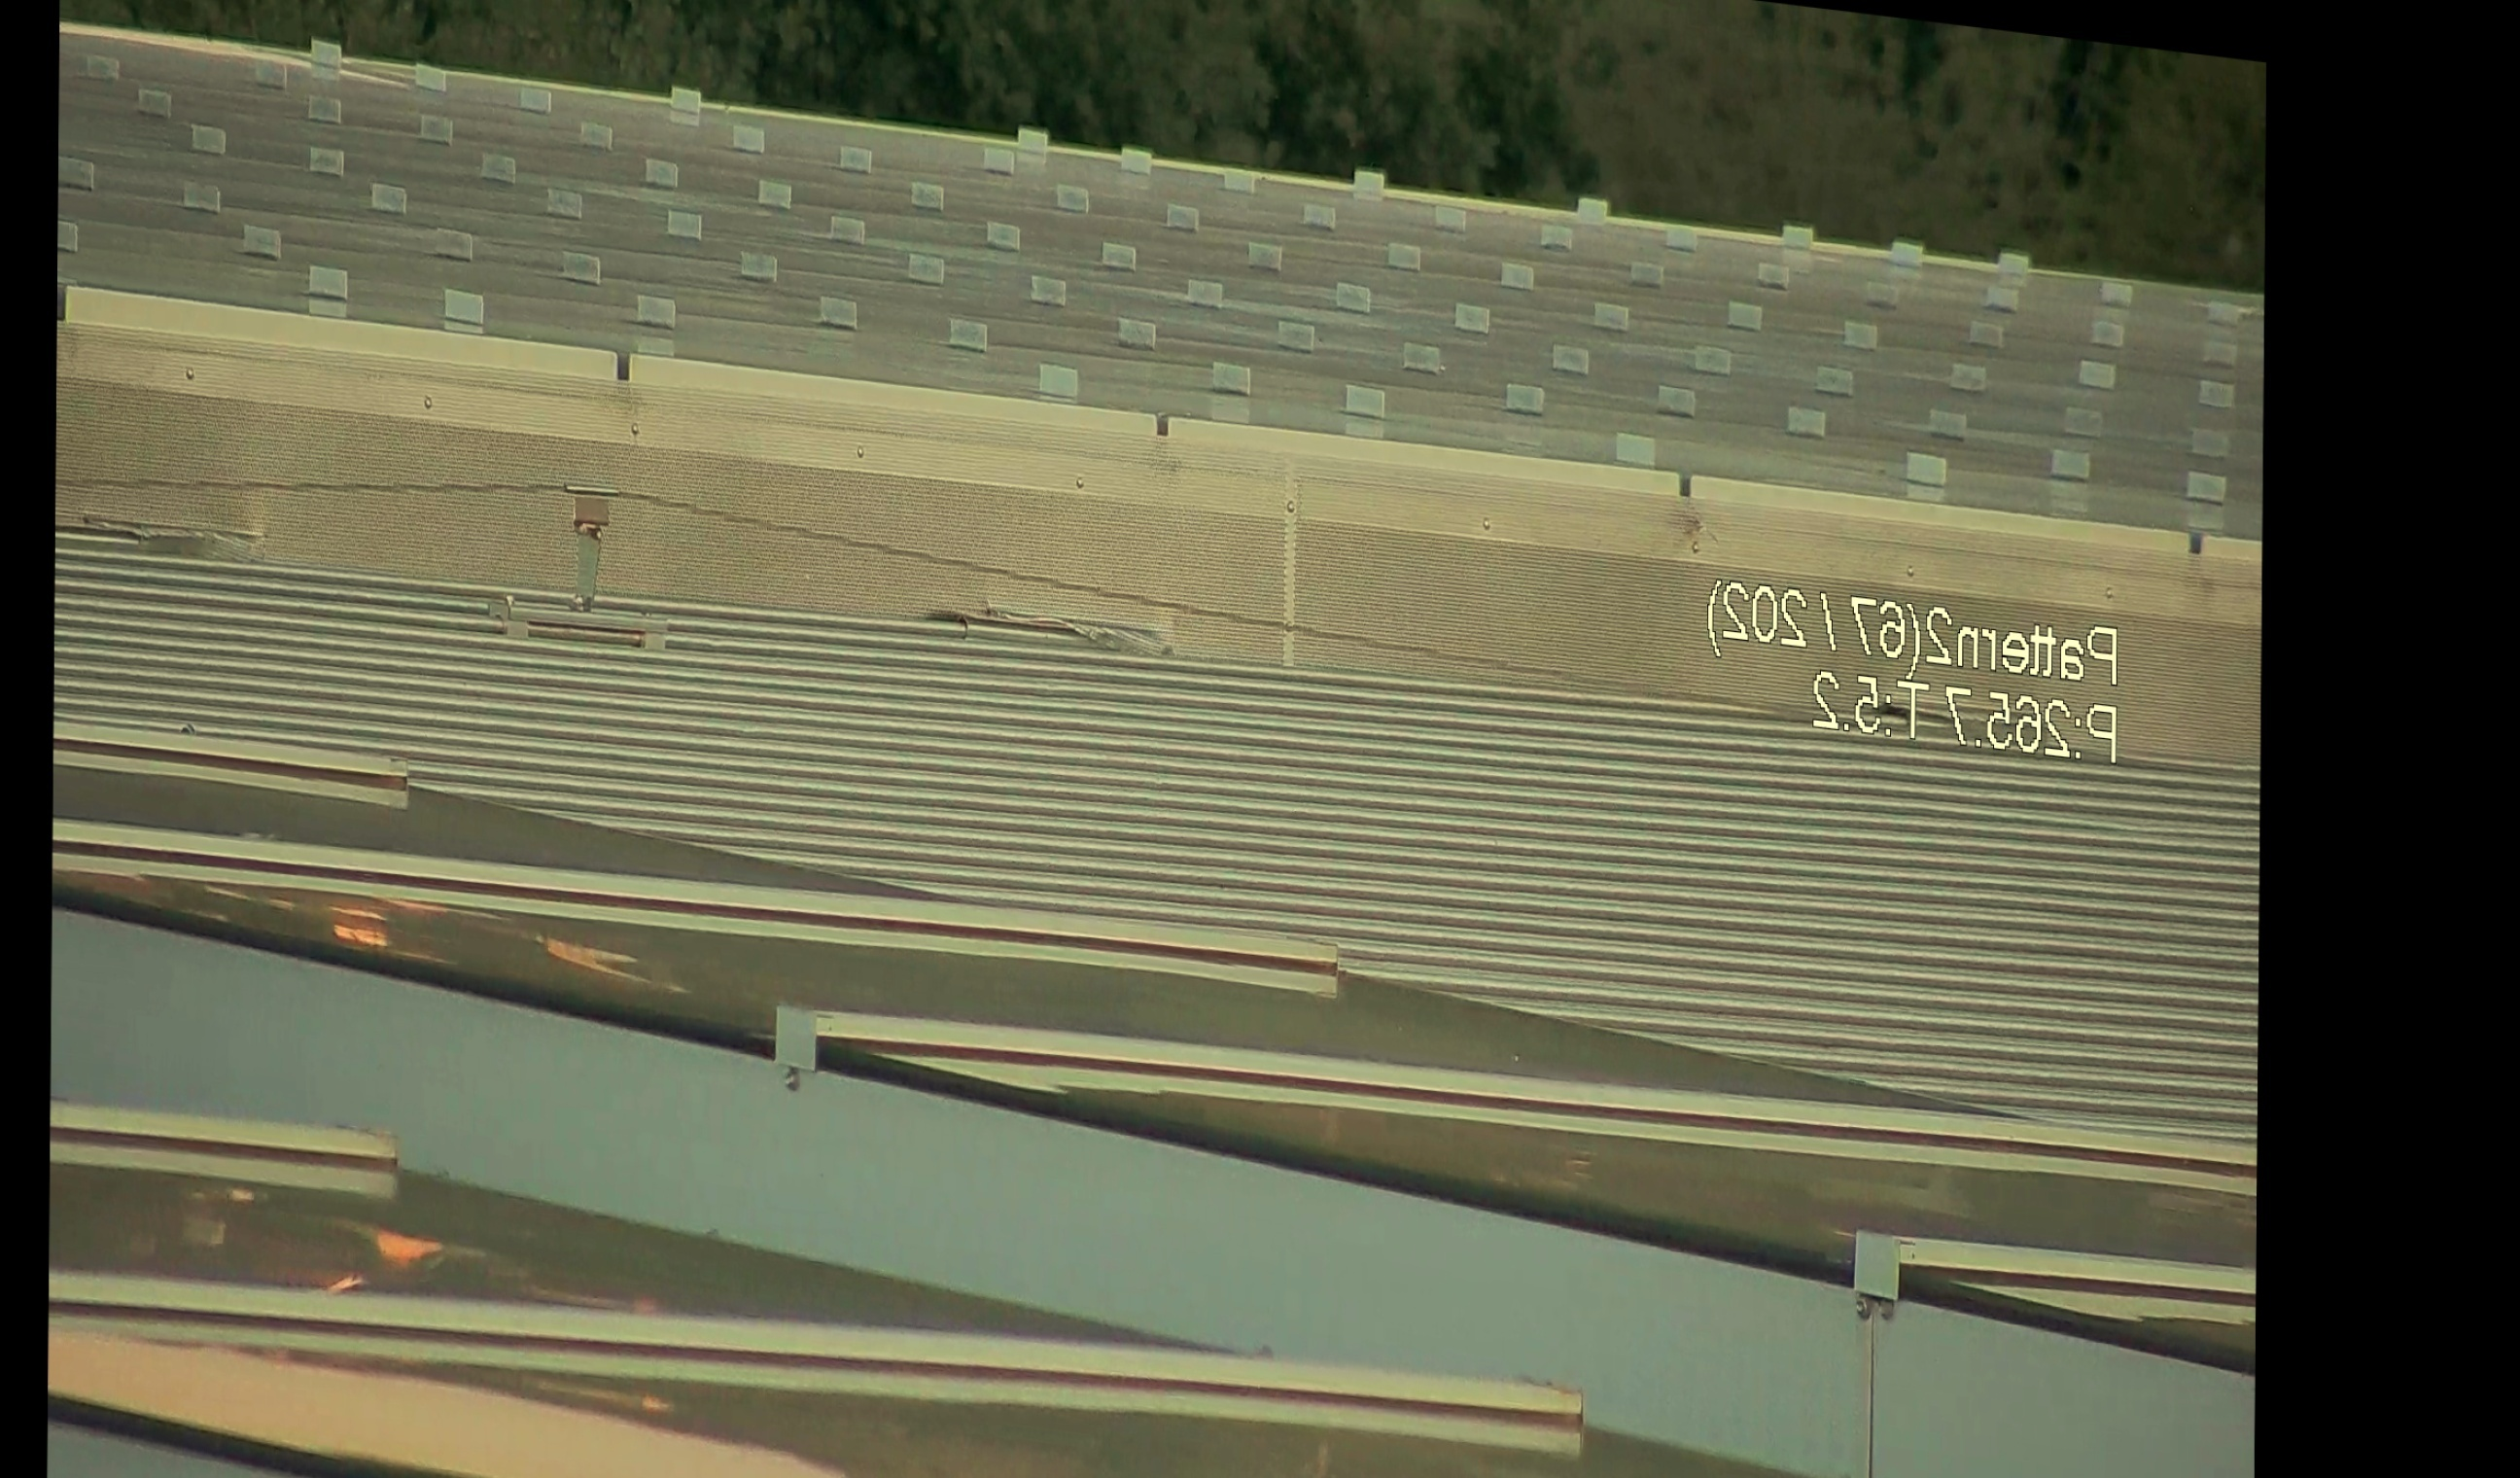Other: (549, 470, 610, 596)
